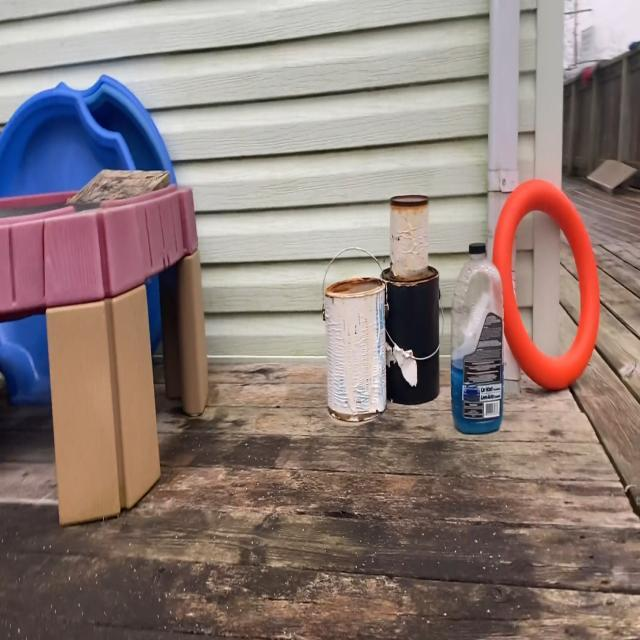note: (489, 176, 602, 394)
